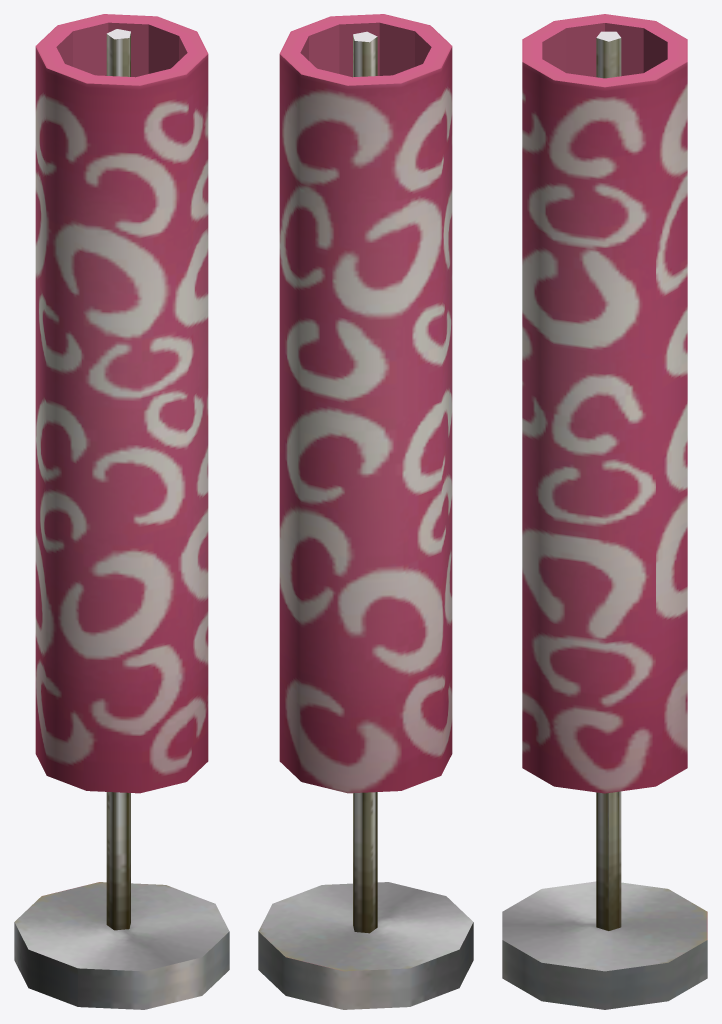
The model's file is furni_0200147.FBX.
3 views of the same model, side by side, from view 1: azimuth 30°, elevation 25°; view 2: azimuth 150°, elevation 25°; view 3: azimuth 270°, elevation 25° (orthographic).
Parts seen in each view (by area): view 1: furni_0200147; view 2: furni_0200147; view 3: furni_0200147.
Part boxes in pixels (box(x1,y1,x2,y2)): furni_0200147: box(14, 14, 229, 1009); furni_0200147: box(258, 14, 473, 1009); furni_0200147: box(502, 14, 707, 1009).
Size of the model in its own units: 25.94 by 123 by 24.67.
Materials: 1 (1 with a texture image).
